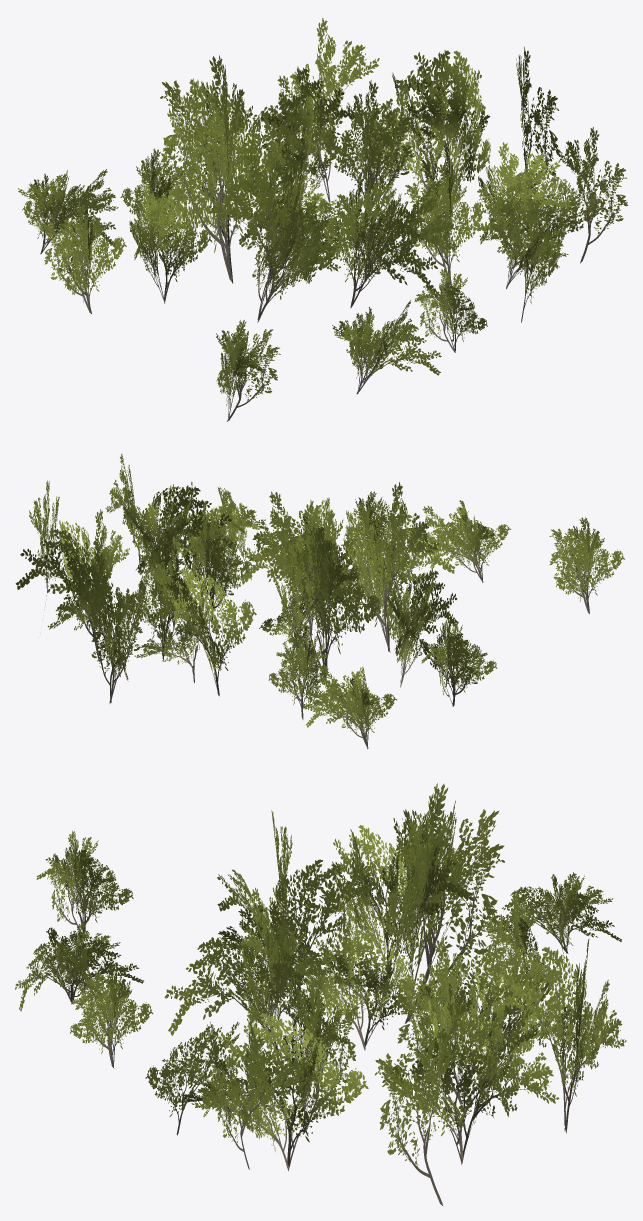
File: MLRT_Tree_Far_Group_04.fbx
3 views of the same model, one above another, from view 1: azimuth 30°, elevation 25°; view 2: azimuth 150°, elevation 25°; view 3: azimuth 270°, elevation 25° (orthographic). The views are drawn at different scales.
Parts seen in each view (by area): view 1: MLRT_Tree_Far_Group_04_LOD0; view 2: MLRT_Tree_Far_Group_04_LOD0; view 3: MLRT_Tree_Far_Group_04_LOD0.
Part boxes in pixels (x1,y1,x2,y2): MLRT_Tree_Far_Group_04_LOD0: [18, 18, 628, 421]; MLRT_Tree_Far_Group_04_LOD0: [15, 453, 624, 749]; MLRT_Tree_Far_Group_04_LOD0: [15, 783, 626, 1205].
Size of what is drawn, in the model's own units: 25.23 by 11.47 by 24.19.
